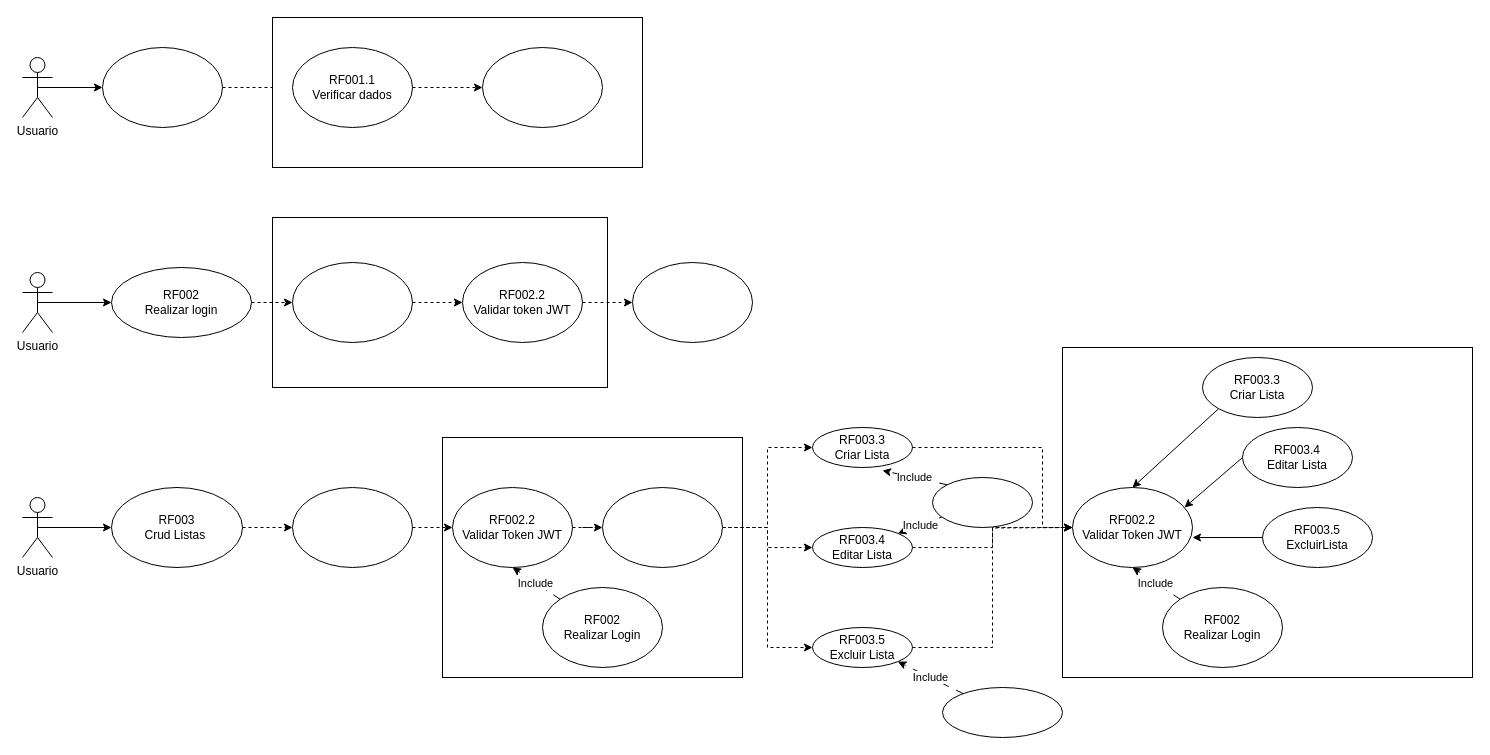
Image size: 1490x755. Some labels were removed from this diagram. The centre of each missing label's shape, as x and y in pixels:
"RF001 Realizar Cadastro" belongs at (x=162, y=87).
"RF001.2 Criar o novo usuario" belongs at (x=542, y=87).
"RF002.1 Criar token JWT" belongs at (x=352, y=302).
"RF002.2 Abrir a página home" belongs at (x=692, y=302).
"RF003.1 Abrir aba das listas" belongs at (x=352, y=527).
"RF003.2 Carregar e Exibir Listas" belongs at (x=662, y=527).
"RF003.6 Confirmar exclusão" belongs at (x=1002, y=712).
"RF003.6 Fornecer dados" belongs at (x=982, y=502).
